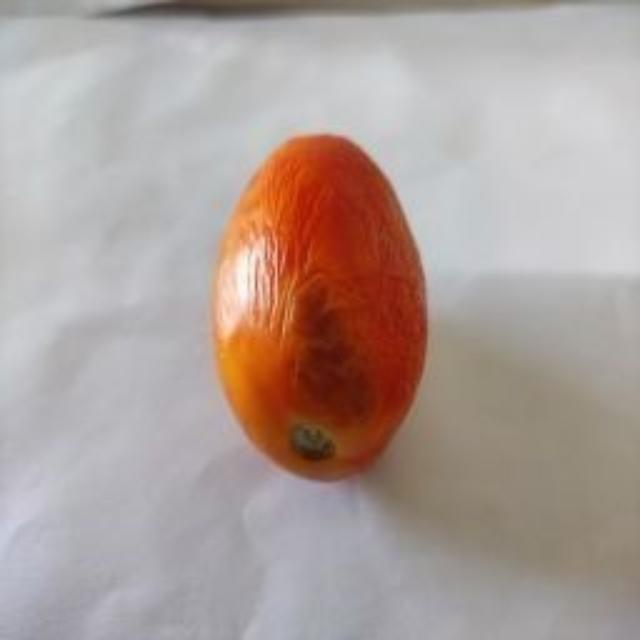defect: (204, 117, 443, 491)
